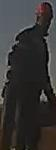helmet: (34, 0, 55, 19)
vest: (1, 26, 53, 100)
